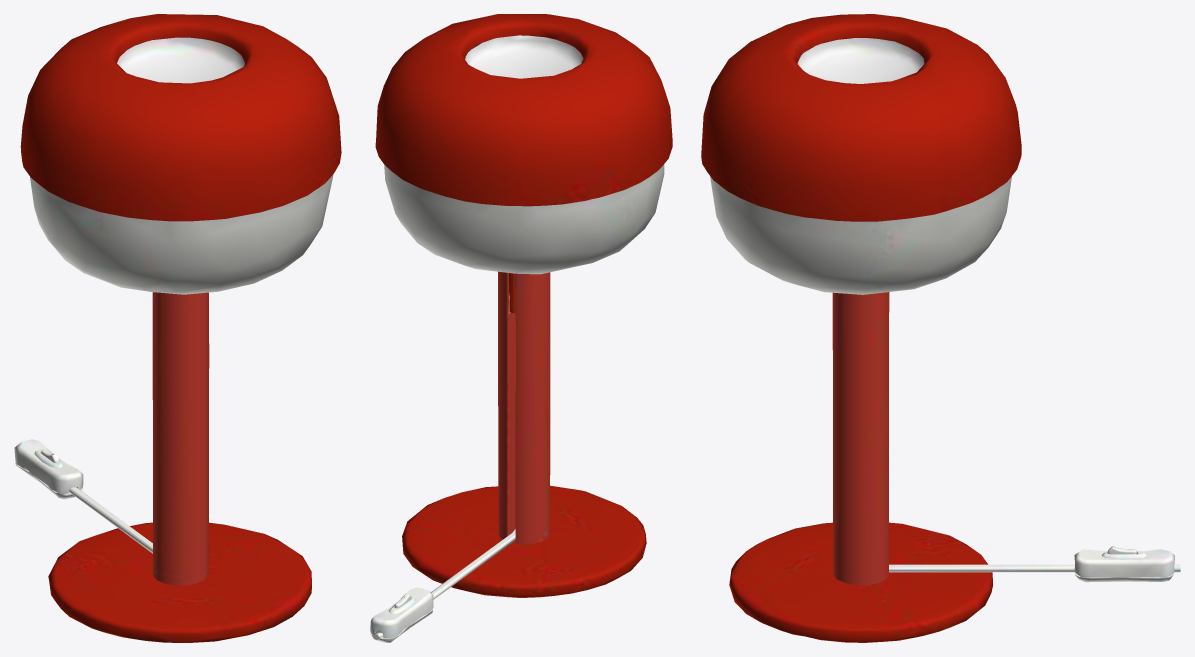
File: 31 - BLÅSVERK Table lamp - red 36 cm.glb
3 renders of one model, left to right at view 1: azimuth 30°, elevation 25°; view 2: azimuth 150°, elevation 25°; view 3: azimuth 270°, elevation 25°, orthographic. The views are drawn at different scales.
Parts seen in each view (by area): view 1: ASY_ART_70585606_S01_NV01; view 2: ASY_ART_70585606_S01_NV01; view 3: ASY_ART_70585606_S01_NV01.
Part boxes in pixels (<box>): ASY_ART_70585606_S01_NV01: <box>14,14,341,642</box>; ASY_ART_70585606_S01_NV01: <box>370,14,672,642</box>; ASY_ART_70585606_S01_NV01: <box>701,14,1180,642</box>.
Bounding box in the file's own units: 0.1947 × 0.3601 × 0.292.
2 materials, 2 textured.
